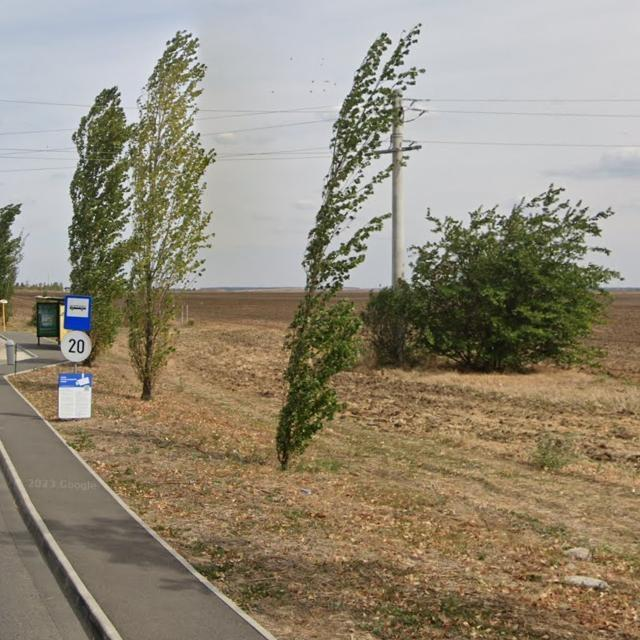forb_speed_over_20: (61, 331, 93, 362)
